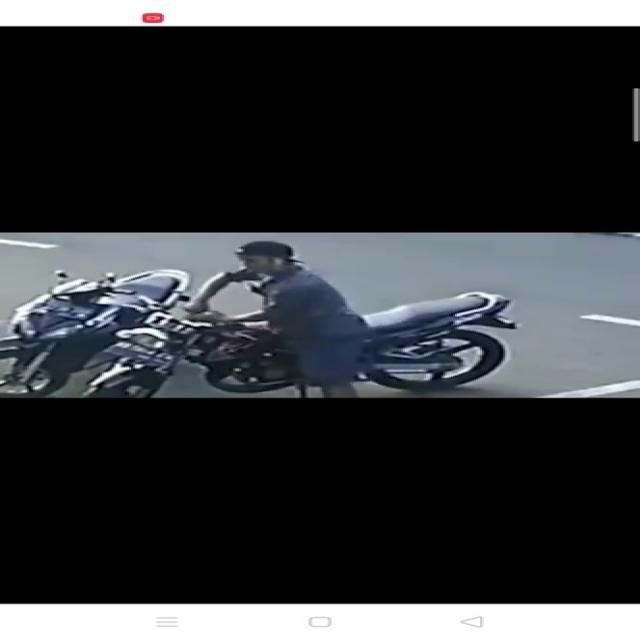pencurian: (99, 239, 362, 398)
